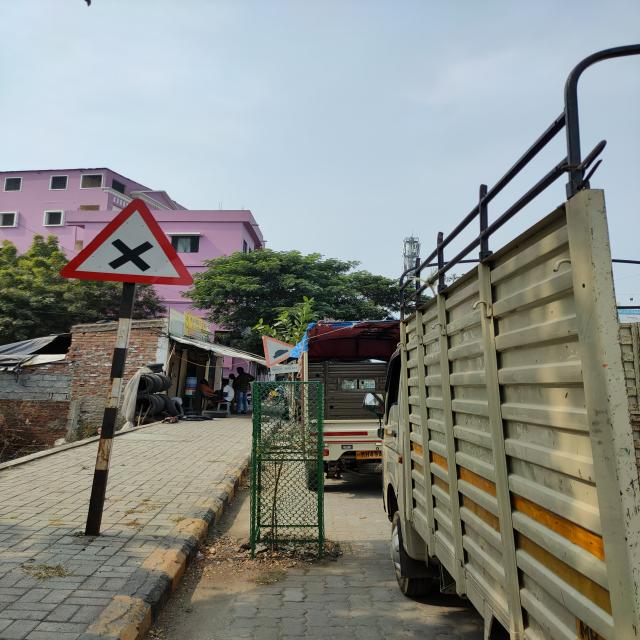CROSS_ROAD: (57, 196, 194, 291)
